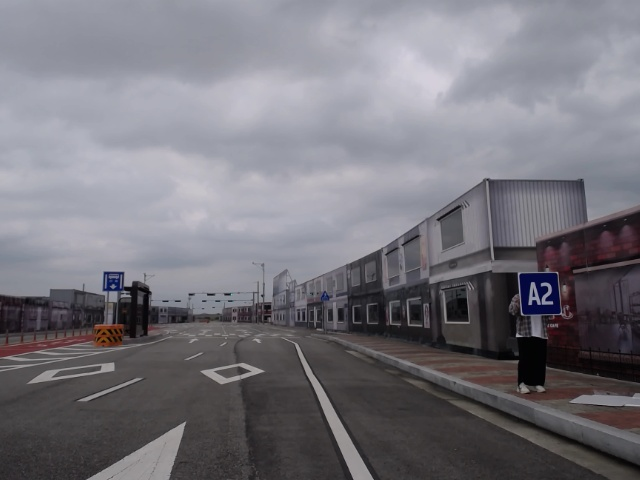delivery_a2: (518, 271, 561, 316)
